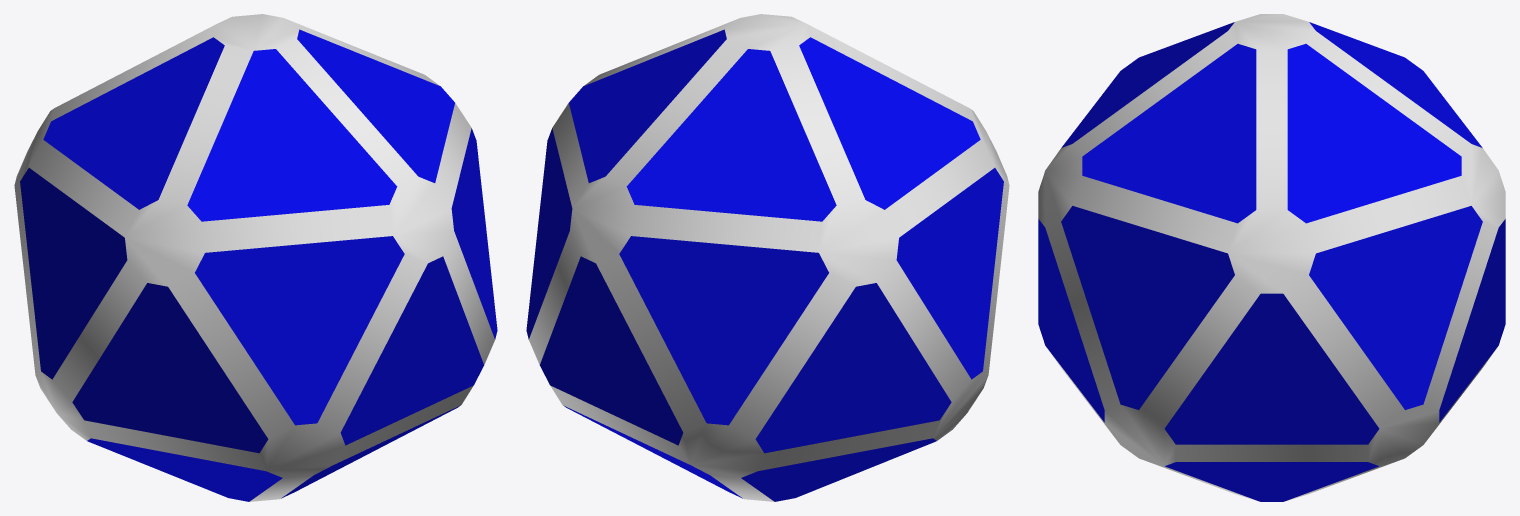
The model's file is D20_Beveled.fbx.
The picture shows the model from 3 angles, left to right: view 1: azimuth 30°, elevation 25°; view 2: azimuth 150°, elevation 25°; view 3: azimuth 270°, elevation 25°; orthographic projection.
Visible parts, largest first — view 1: D20_Beveled; view 2: D20_Beveled; view 3: D20_Beveled.
Boxes of the visible parts, left/top/right/bottom form: D20_Beveled: left=14, top=14, right=497, bottom=501; D20_Beveled: left=526, top=14, right=1009, bottom=501; D20_Beveled: left=1038, top=14, right=1505, bottom=501.
Size of the model in its own units: 129 by 133 by 124.
